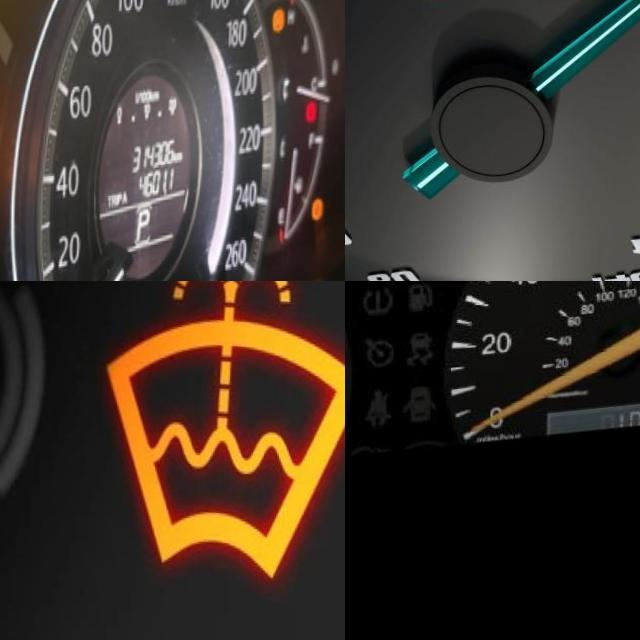Washer Fluid: (104, 281, 345, 600)
